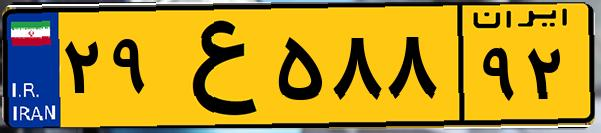2: (57, 26, 110, 100), (525, 38, 570, 115)
5: (270, 28, 330, 110)
8: (385, 28, 445, 110), (330, 28, 385, 110)
9: (475, 38, 525, 113), (110, 28, 158, 98)
ع: (158, 12, 270, 120)
